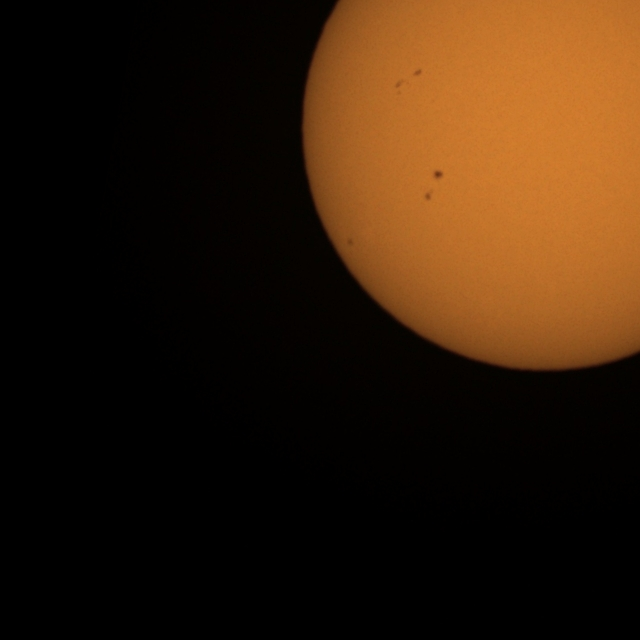sunspot: (392, 67, 423, 96), (423, 171, 443, 203), (394, 77, 409, 95), (433, 168, 445, 180), (424, 190, 434, 203), (345, 236, 355, 248), (412, 68, 423, 78)
